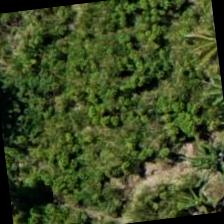Kelapa_Sawit: (156, 0, 223, 94), (136, 156, 223, 222), (177, 121, 223, 216)
